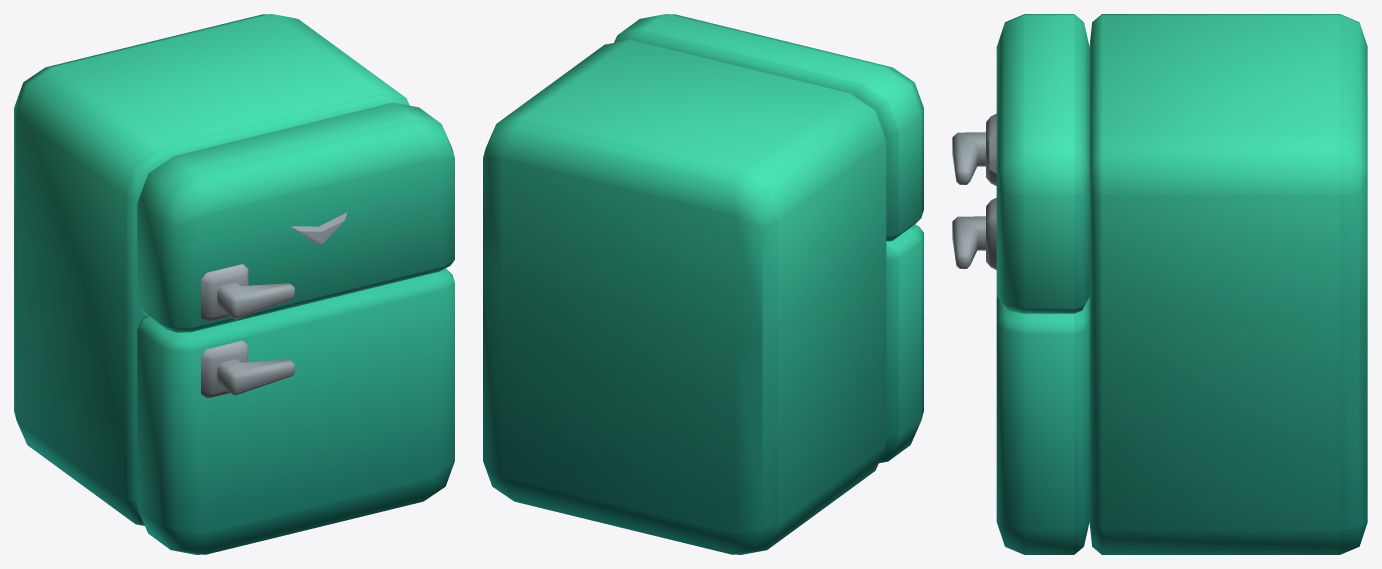
File: fridge.glb
3 views of the same model, side by side, from view 1: azimuth 30°, elevation 25°; view 2: azimuth 150°, elevation 25°; view 3: azimuth 270°, elevation 25° (orthographic). The views are drawn at different scales.
Visible parts, largest first — view 1: fridge_A; view 2: fridge_A; view 3: fridge_A.
Boxes of the visible parts, <box> form: fridge_A: <box>14,14,454,554</box>; fridge_A: <box>483,14,923,554</box>; fridge_A: <box>952,14,1367,554</box>.
Size of the model in its own units: 2 by 2.5 by 2.24.
Materials: 1 (1 with a texture image).
